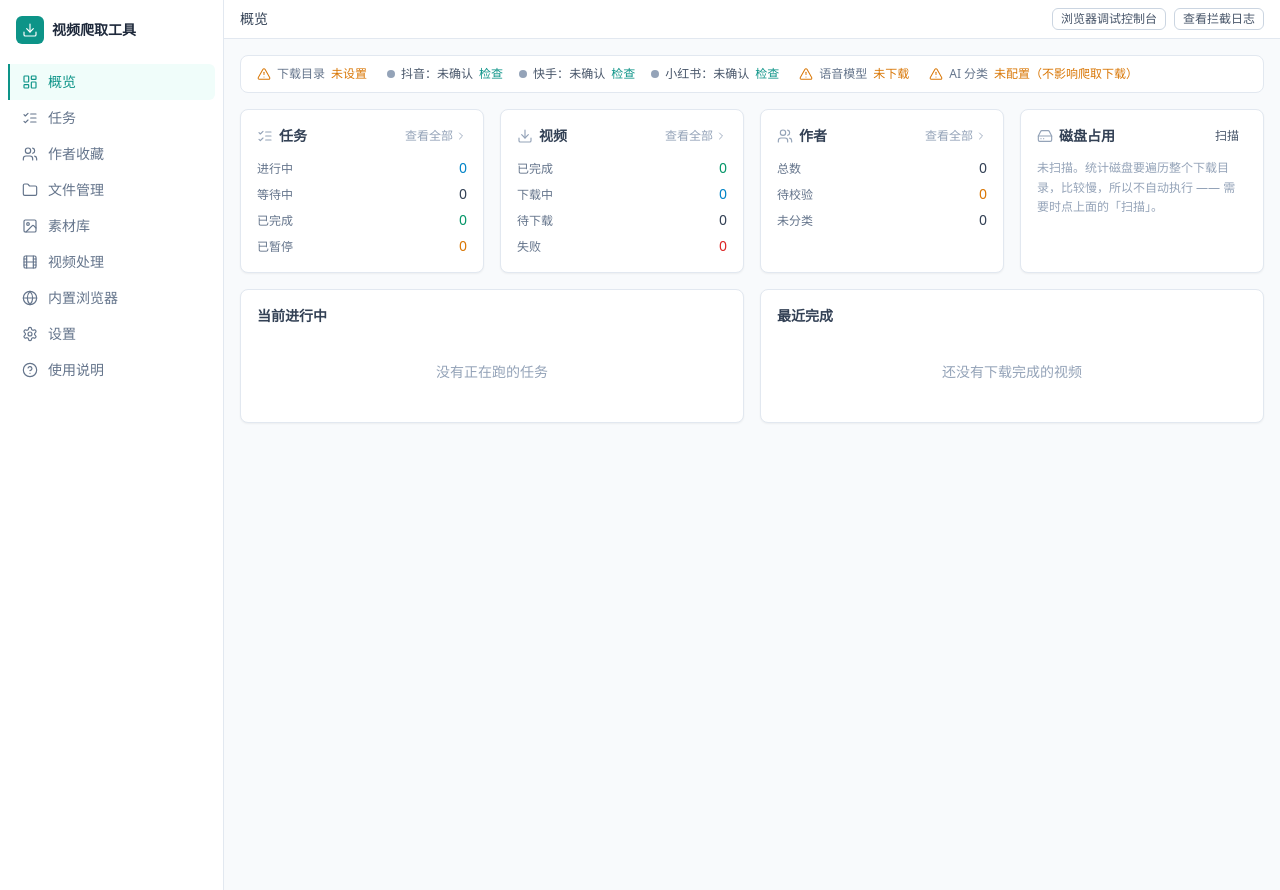
Scenario: D3 设置改了没保存就切页 → 先问一声 › 点确定放弃 → 切过去
Click the button "设置" at (112,334), box [8,316,215,352]
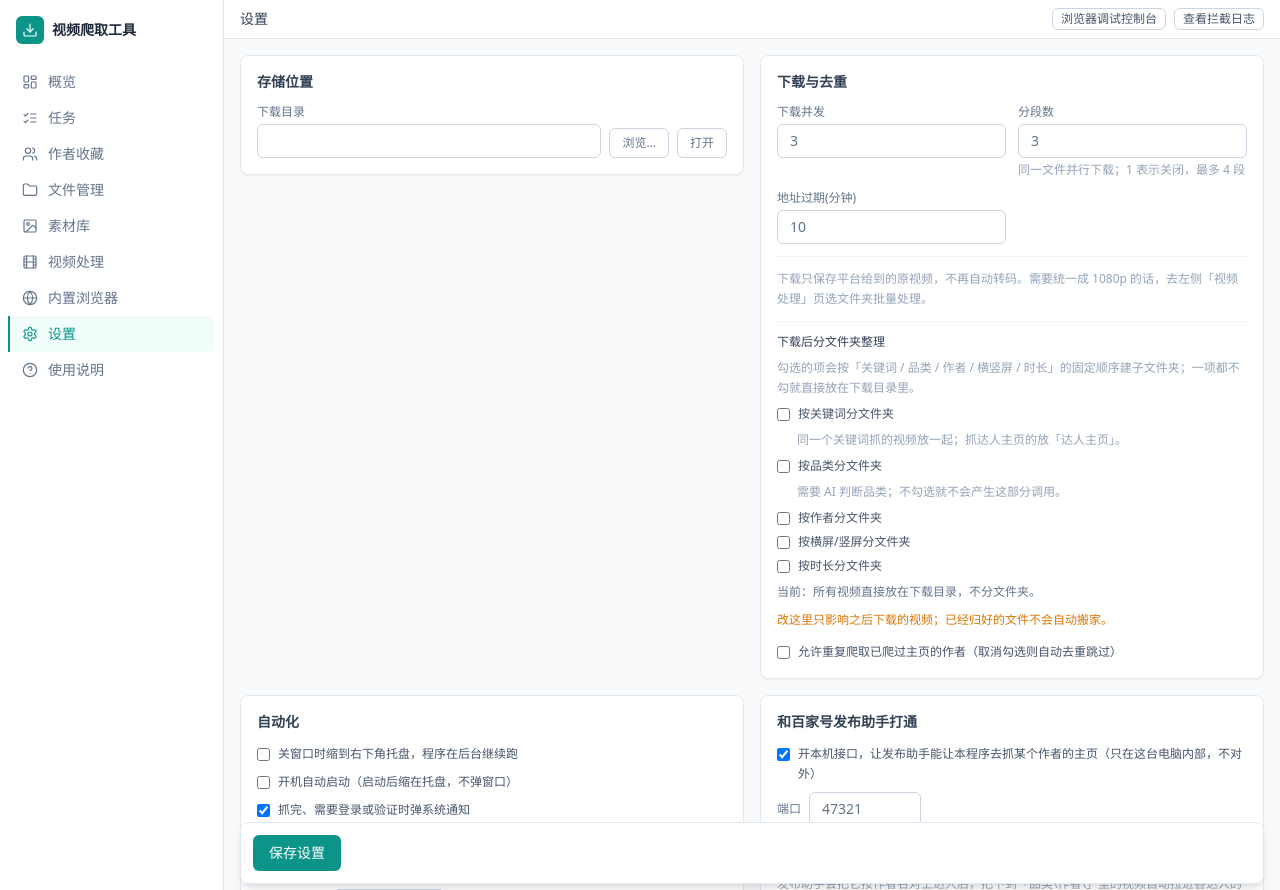
Replace the text in the number field labelled "下载并发" with "2" at (892,141), box [777,124,1006,158]
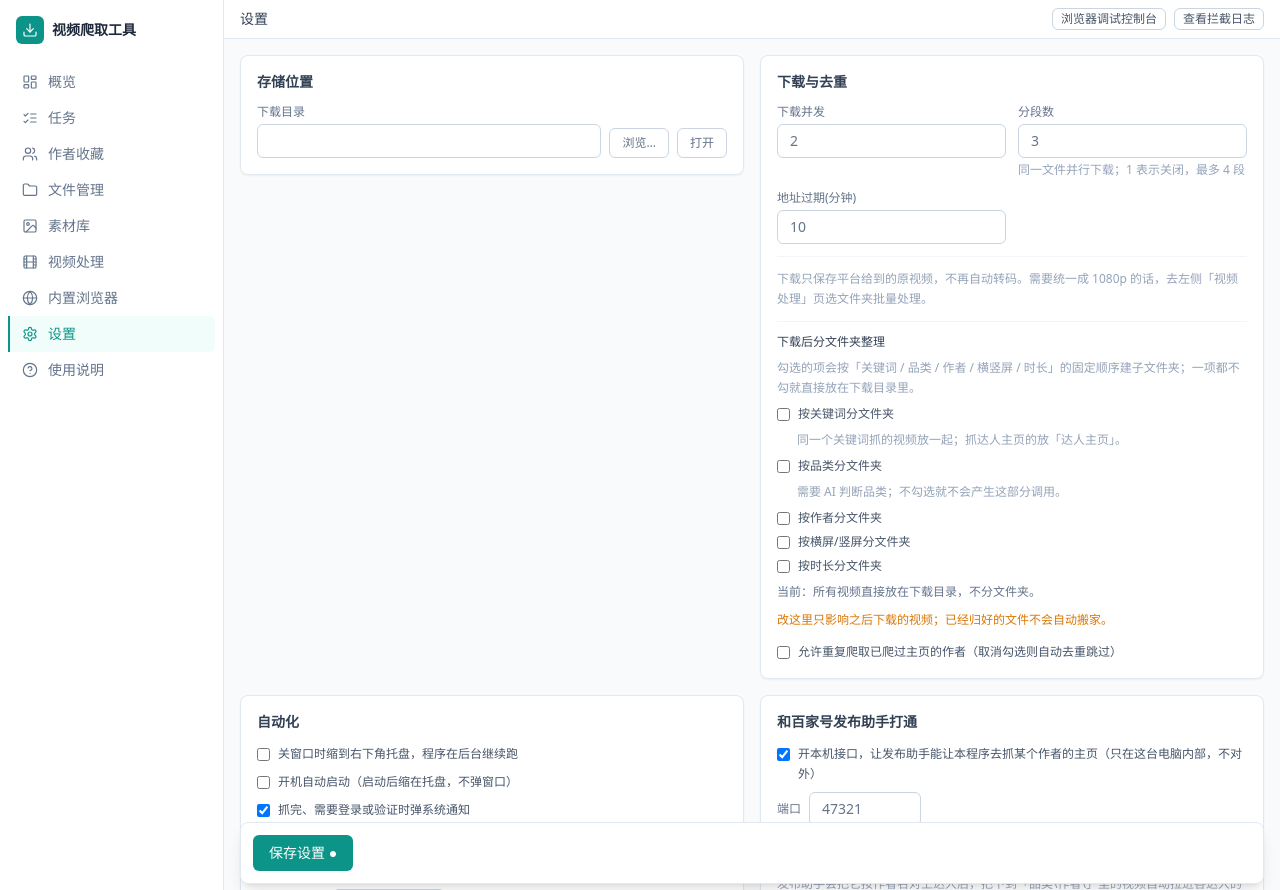
Click the button "概览" at (112,82), box [8,64,215,100]
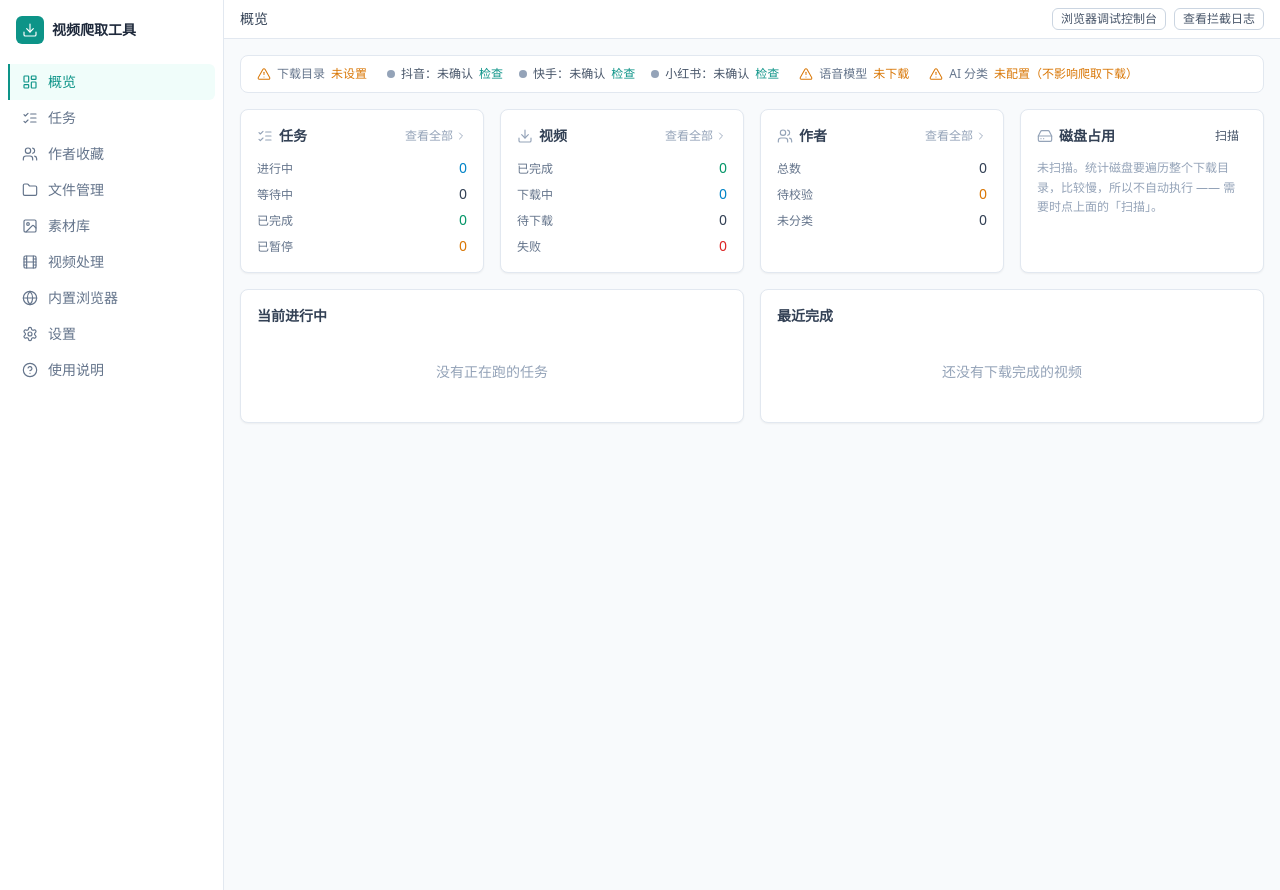
Now the label labelled "下载并发" is gone
